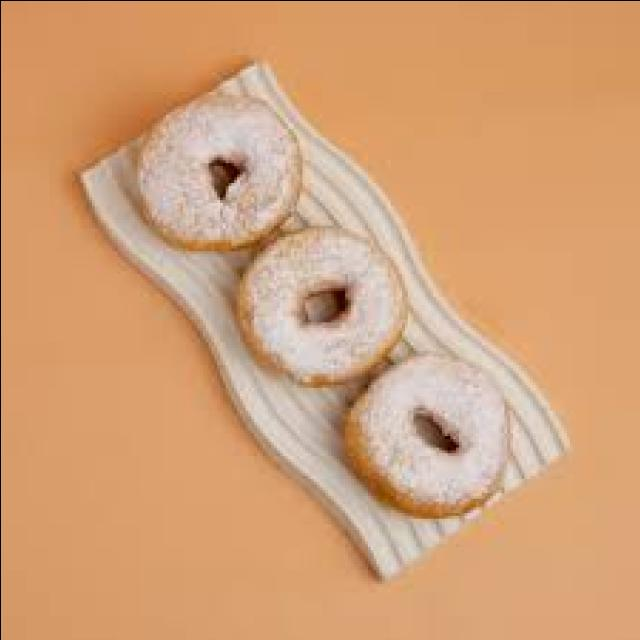donat: (131, 71, 302, 253), (233, 225, 412, 393), (341, 353, 518, 521)
